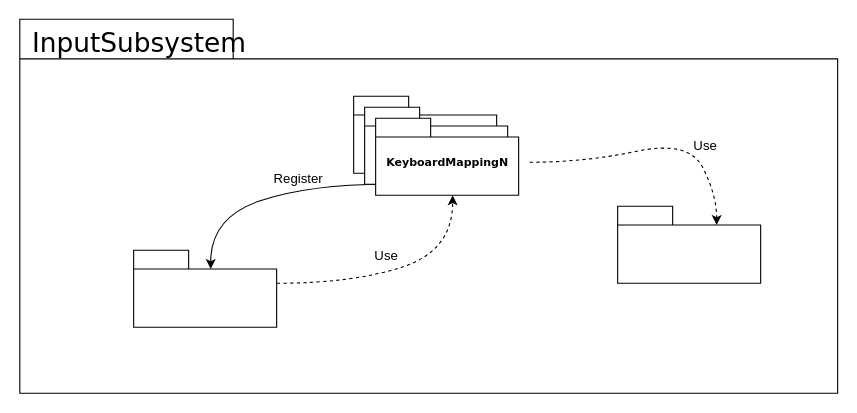
The diagram is 857 pixels wide and 413 high, and some of its shapes have lost their labels. Each missing label, with the box of its shape:
Input: (133, 249, 277, 327)
KeyboardImpl: (617, 205, 761, 283)
